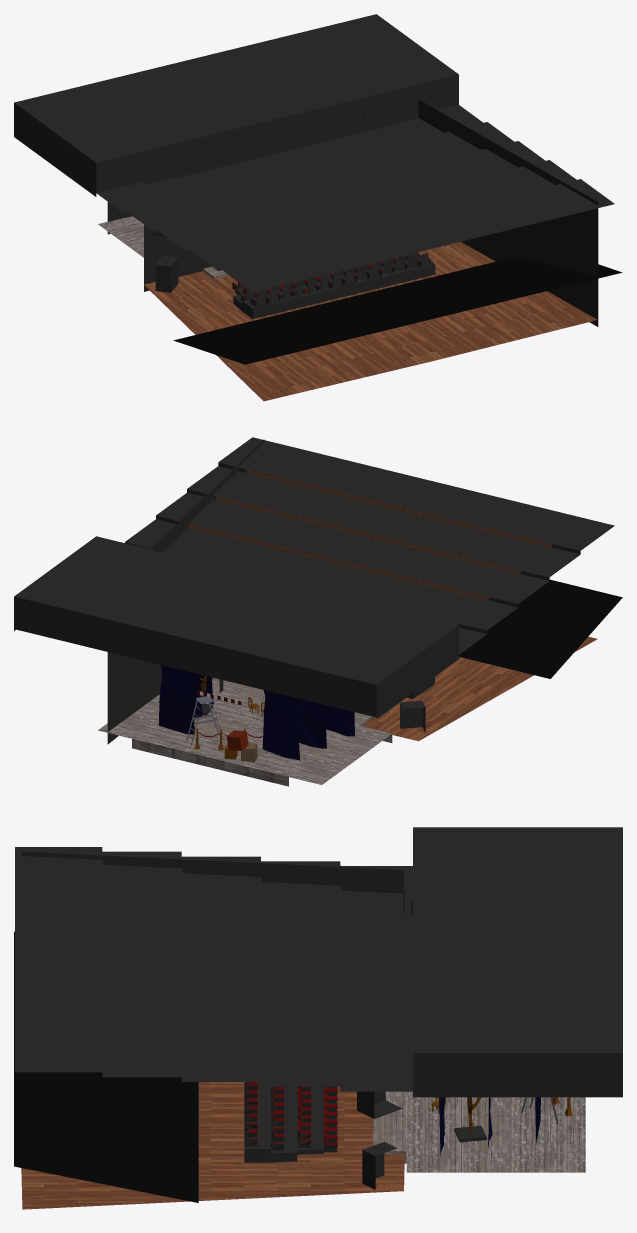
File: StageV4.glb
3 views of the same model, one above another, from view 1: azimuth 30°, elevation 25°; view 2: azimuth 150°, elevation 25°; view 3: azimuth 270°, elevation 25° (orthographic). The views are drawn at different scales.
Visible parts, largest first — view 1: Roof, Floor, BackWall, Wall.001, Stage-wall, Cube.005, Cube.006, Wall, Stage-floor, Cube.003, Cube.009; view 2: Roof, Stage-floor, BackWall, Floor, Stage-wall, Curtain.006, Curtain.005, Curtain.004, Wall.001, Curtain, Cube.009; view 3: Roof, BackWall, Floor, Stage-floor, Wall, Cube.005, Cube.002, Cube, Cube.004, Cube.017, Cube.006, Cube.001 (+3 smaller).
Boxes of the visible parts, x1,y1,x2,y2 form: Roof: [14, 14, 614, 292]; Floor: [144, 241, 597, 401]; BackWall: [173, 257, 622, 364]; Wall.001: [364, 99, 598, 326]; Stage-wall: [107, 115, 390, 276]; Cube.005: [242, 257, 435, 318]; Cube.006: [250, 253, 430, 307]; Wall: [144, 159, 176, 291]; Stage-floor: [98, 216, 228, 279]; Cube.003: [240, 252, 420, 300]; Cube.009: [155, 255, 178, 292]; Roof: [14, 437, 614, 718]; Stage-floor: [98, 678, 392, 786]; BackWall: [459, 579, 622, 678]; Floor: [212, 636, 597, 741]; Stage-wall: [107, 652, 223, 744]; Curtain.006: [262, 690, 299, 760]; Curtain.005: [158, 665, 194, 734]; Curtain.004: [297, 698, 326, 748]; Wall.001: [151, 439, 264, 552]; Curtain: [325, 705, 354, 736]; Cube.009: [400, 700, 425, 733]; Roof: [15, 827, 622, 1097]; BackWall: [14, 931, 198, 1202]; Floor: [21, 1082, 404, 1209]; Stage-floor: [373, 1091, 585, 1172]; Wall: [21, 851, 404, 913]; Cube.005: [244, 1082, 270, 1162]; Cube.002: [270, 1086, 297, 1162]; Cube: [297, 1086, 324, 1154]; Cube.004: [323, 1086, 337, 1152]; Cube.017: [362, 1142, 396, 1189]; Cube.006: [244, 1082, 258, 1146]; Cube.001: [297, 1086, 311, 1147].
Size of the model in its own units: 21.01 by 7.58 by 23.02.
Materials: 13 (2 with a texture image).
